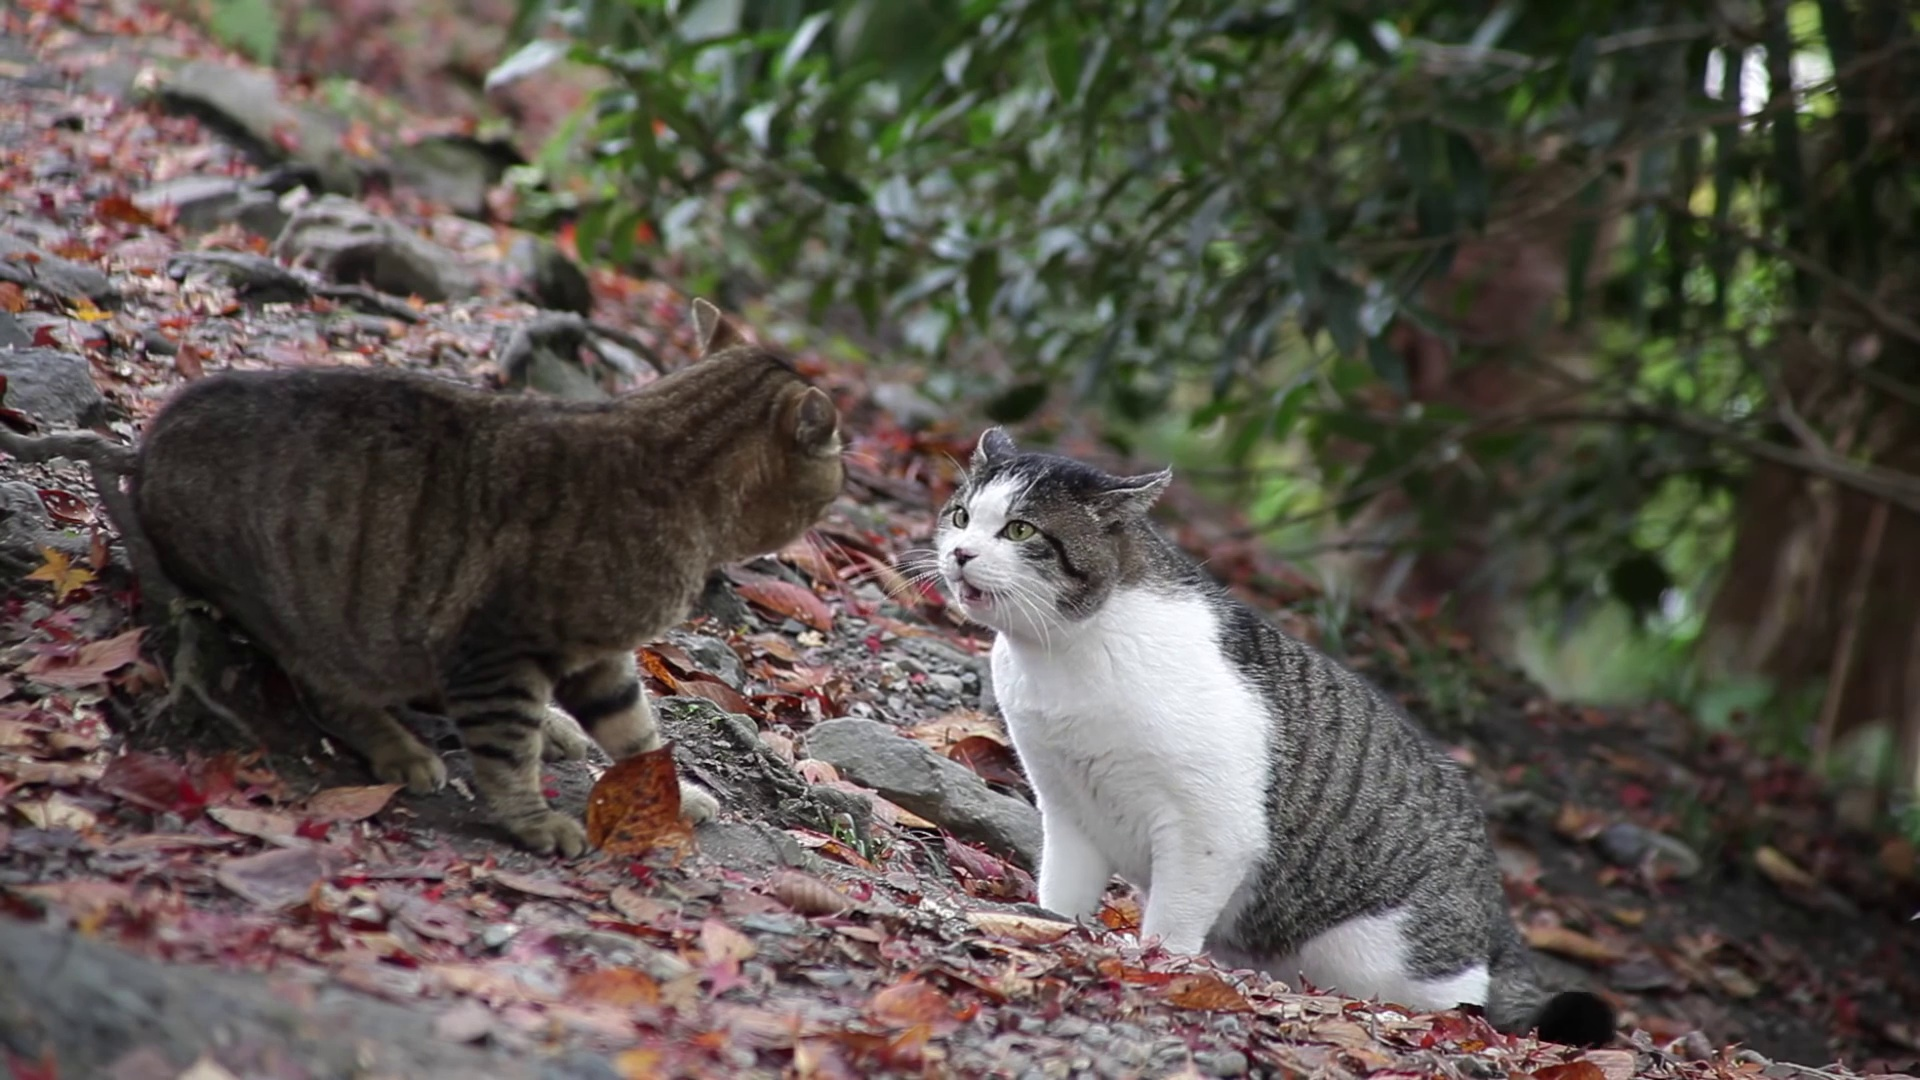black-white: (936, 425, 1617, 1047)
pure black: (135, 295, 843, 862)
